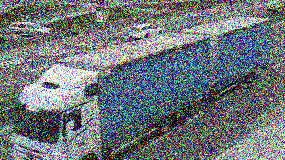car: (8, 22, 49, 36), (128, 24, 163, 40), (0, 28, 20, 42)
